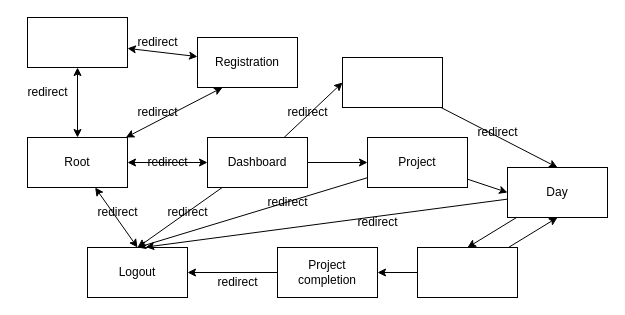
Some shapes in this 625 by 315 pixel diagram are drawn without their labels. The shapes that lost their labels are listed below. From the top down, each one's box as (x1, y1, x2, y2) in pixels, then its label:
(26, 16, 128, 68): Login
(342, 56, 442, 108): Project creation
(416, 246, 518, 298): Day Transition
